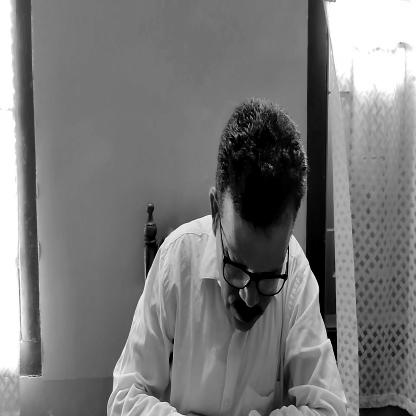Normal: (216, 110, 306, 335)
